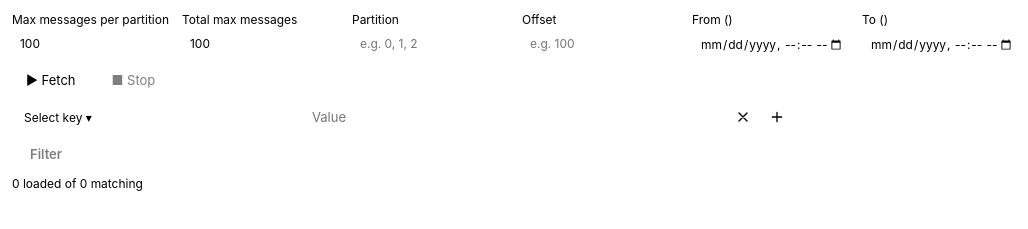
Test: DataTab › shows an error when fetching fails
Click the button "▶ Fetch" at (51, 80), box [12, 66, 90, 94]
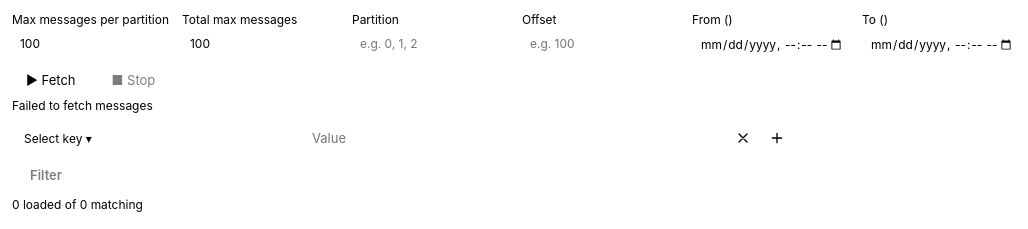
Now the message reads "Failed to fetch messages", box [12, 98, 153, 113]
